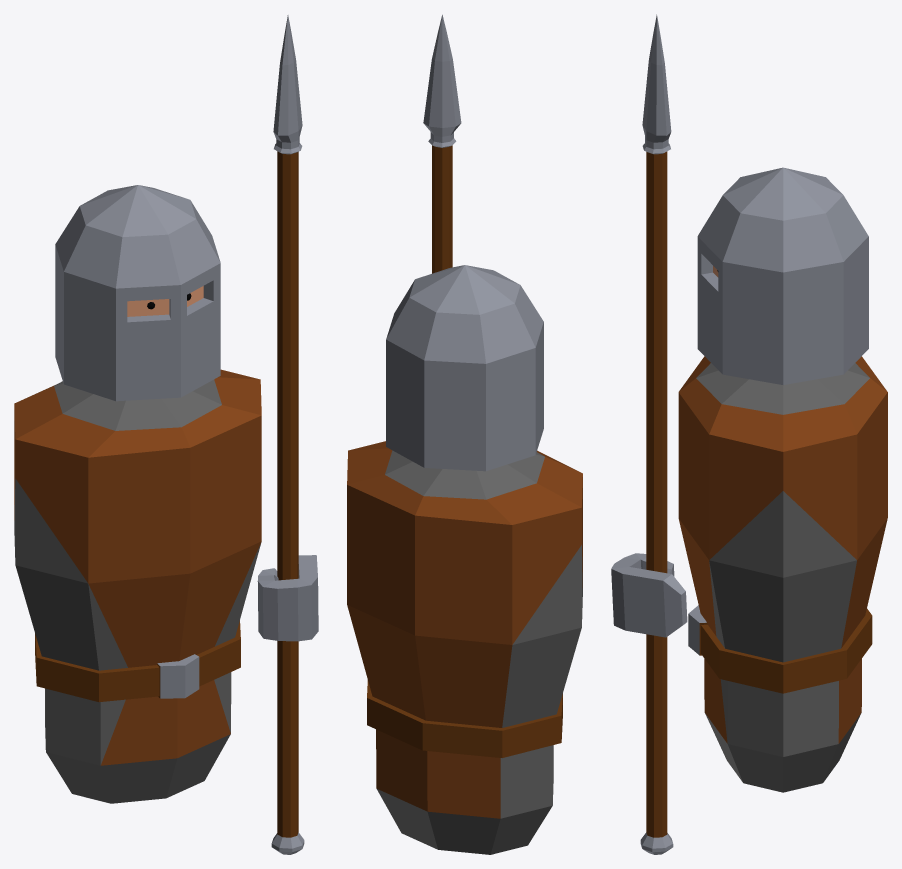
File: tabletka.glb
3 views of the same model, side by side, from view 1: azimuth 30°, elevation 25°; view 2: azimuth 150°, elevation 25°; view 3: azimuth 270°, elevation 25° (orthographic). The views are drawn at different scales.
Parts seen in each view (by area): view 1: Cylinder, Cylinder.001, Cylinder.002, Cube; view 2: Cylinder, Cylinder.002, Cylinder.001; view 3: Cylinder, Cylinder.001, Cylinder.002, Cube.
Part boxes in pixels (<box>): Cylinder: <box>14,185,261,803</box>; Cylinder.001: <box>271,15,304,854</box>; Cylinder.002: <box>35,620,240,702</box>; Cube: <box>257,555,318,641</box>; Cylinder: <box>347,265,582,854</box>; Cylinder.002: <box>367,680,562,757</box>; Cylinder.001: <box>423,14,461,273</box>; Cylinder: <box>678,167,887,792</box>; Cylinder.001: <box>640,14,673,854</box>; Cylinder.002: <box>688,605,872,693</box>; Cube: <box>611,553,687,637</box>.
Bounding box in the file's own units: 1.75 × 5.66 × 1.69.
